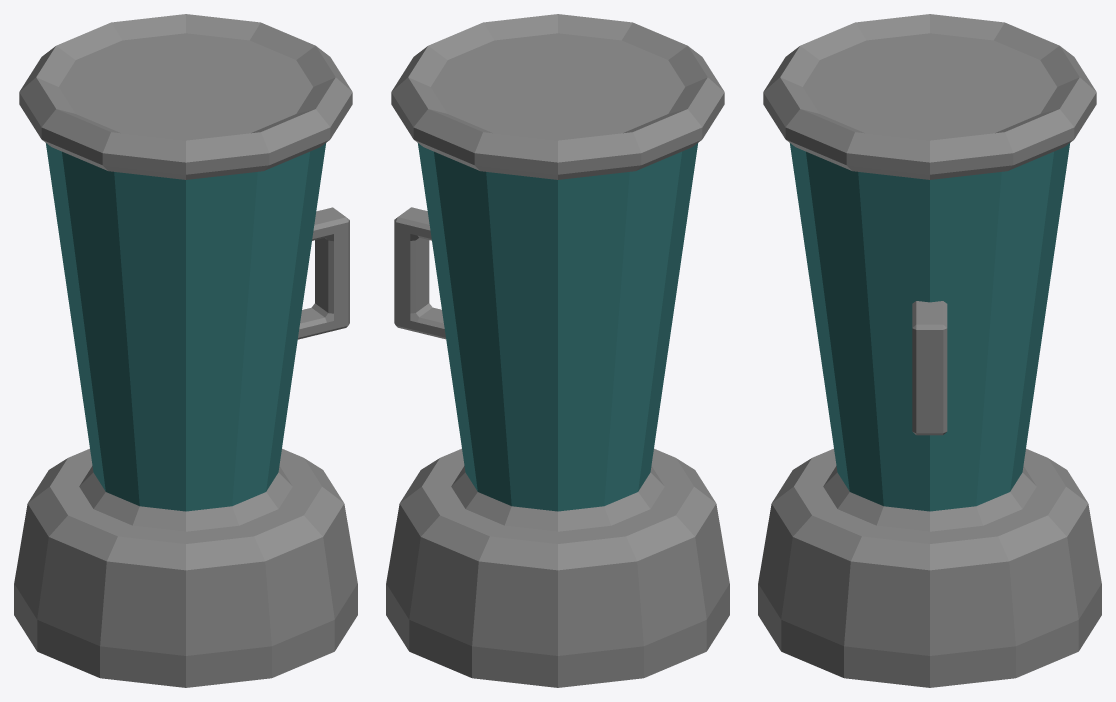
The picture shows the model from 3 angles, left to right: view 1: azimuth 30°, elevation 25°; view 2: azimuth 150°, elevation 25°; view 3: azimuth 270°, elevation 25°; orthographic projection.
Parts seen in each view (by area): view 1: Blender; view 2: Blender; view 3: Blender.
Part boxes in pixels (x1=…): Blender: x1=14, y1=14, x2=357, y2=687; Blender: x1=386, y1=14, x2=729, y2=687; Blender: x1=758, y1=14, x2=1101, y2=687.
Size of the model in its own units: 1.49 by 2.51 by 1.45.
